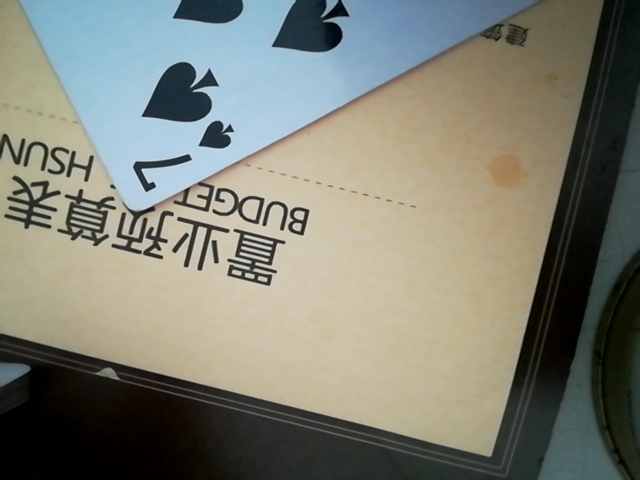ht 7: (5, 0, 578, 206)
